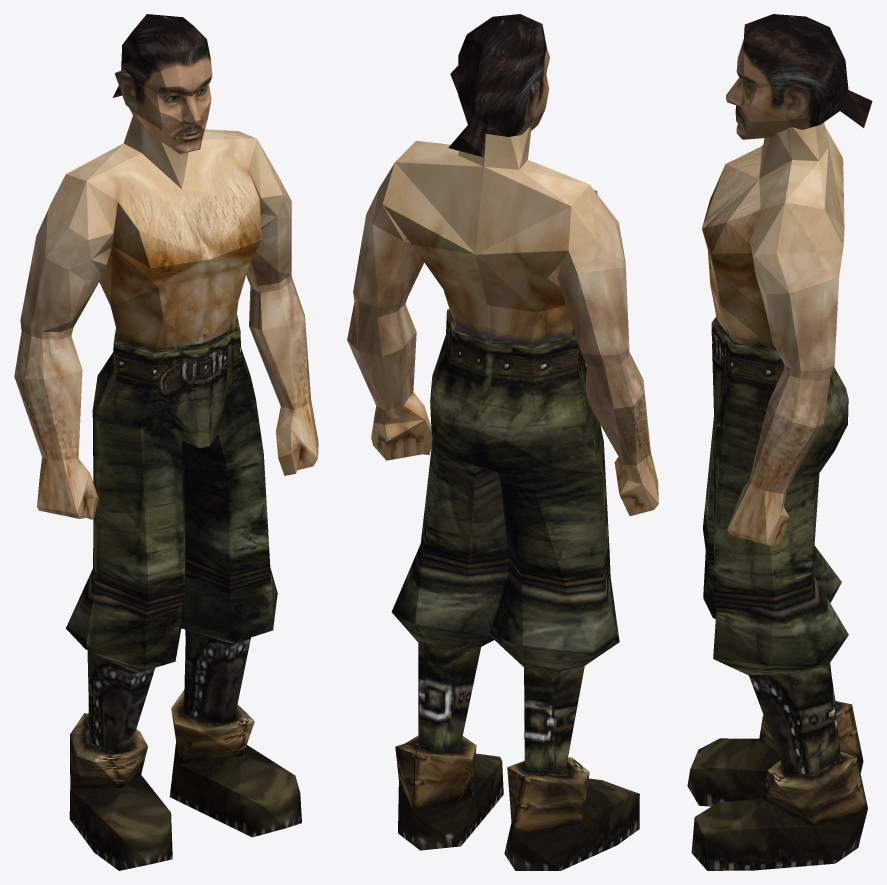
The model's file is pkrawiec.glb.
3 views of the same model, side by side, from view 1: azimuth 30°, elevation 25°; view 2: azimuth 150°, elevation 25°; view 3: azimuth 270°, elevation 25° (orthographic). The views are drawn at different scales.
Parts seen in each view (by area): view 1: zm_Skin, A zm_Morph; view 2: zm_Skin, A zm_Morph; view 3: zm_Skin, A zm_Morph.
Boxes of the visible parts, x1,y1,x2,y2 form: zm_Skin: (14,116,318,870); A zm_Morph: (112,14,212,154); zm_Skin: (347,126,658,870); A zm_Morph: (448,14,549,157); zm_Skin: (687,122,867,870); A zm_Morph: (726,14,872,139).
Size of the model in its own units: 0.6886 by 1.87 by 0.3873.
Materials: 5 (5 with a texture image).
